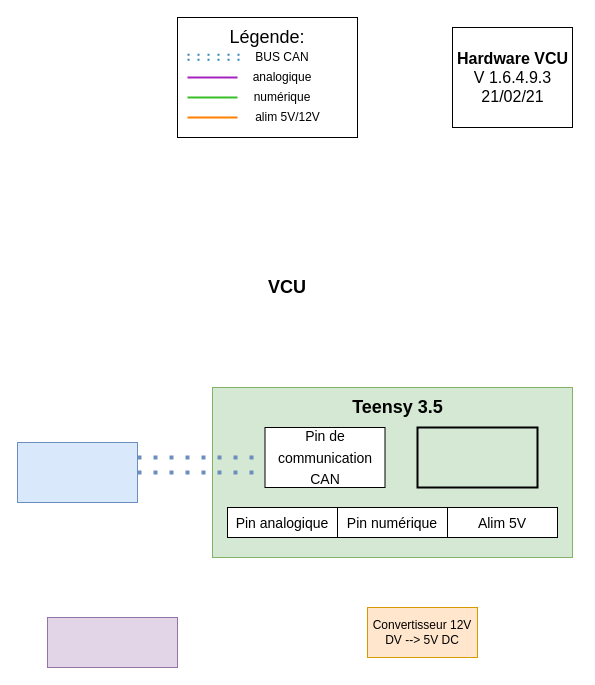
The diagram is 595 pixels wide and 685 high, and some of its shapes have lost their labels. The shapes that lost their labels are listed below. From the top down, each one's centre as x and y in pixels, then its label:
At [77,472]: "Module de communication CAN SN65HVD230".
At [477,457]: "Microcontrolleur".
At [112,642]: "Module Audio".
